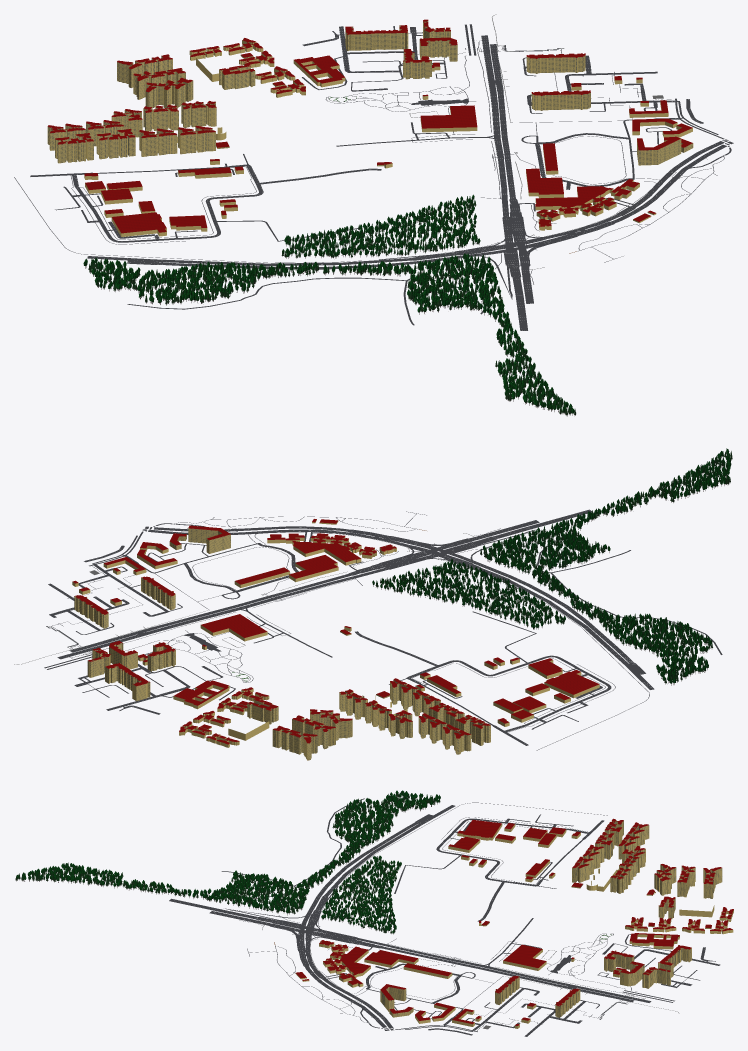
Rendered from osm3d.glb.
The picture shows the model from 3 angles, top to bottom: view 1: azimuth 30°, elevation 25°; view 2: azimuth 150°, elevation 25°; view 3: azimuth 270°, elevation 25°; orthographic projection. The views are drawn at different scales.
Visible parts, largest first — view 1: Plaster002, TextureAtlas c431fe64, ASPHALT, RoofingTiles010, Windows; view 2: ASPHALT, Plaster002, TextureAtlas c431fe64, RoofingTiles010, Windows; view 3: TextureAtlas c431fe64, ASPHALT, Plaster002, RoofingTiles010, Windows.
Boxes of the visible parts, x1=… form: Plaster002: x1=47, y1=21, x2=693, y2=236; TextureAtlas c431fe64: x1=83, y1=194, x2=576, y2=416; ASPHALT: x1=14, y1=24, x2=733, y2=330; RoofingTiles010: x1=48, y1=19, x2=692, y2=233; Windows: x1=48, y1=21, x2=692, y2=165; ASPHALT: x1=44, y1=509, x2=722, y2=750; Plaster002: x1=72, y1=519, x2=599, y2=760; TextureAtlas c431fe64: x1=372, y1=448, x2=732, y2=685; RoofingTiles010: x1=72, y1=519, x2=599, y2=744; Windows: x1=74, y1=529, x2=490, y2=759; TextureAtlas c431fe64: x1=15, y1=790, x2=440, y2=934; ASPHALT: x1=169, y1=798, x2=719, y2=1036; Plaster002: x1=295, y1=820, x2=733, y2=1028; RoofingTiles010: x1=296, y1=818, x2=733, y2=1025; Windows: x1=382, y1=821, x2=722, y2=1017.
Size of the model in its own units: 1340 by 37.55 by 1689.
Materials: 16 (16 with a texture image).
